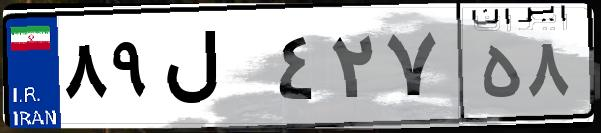2: (330, 28, 385, 110)
4: (270, 28, 330, 110)
5: (475, 38, 525, 113)
7: (385, 28, 445, 110)
8: (57, 26, 110, 100), (525, 38, 570, 115)
9: (110, 28, 158, 98)
ل: (158, 20, 270, 120)
